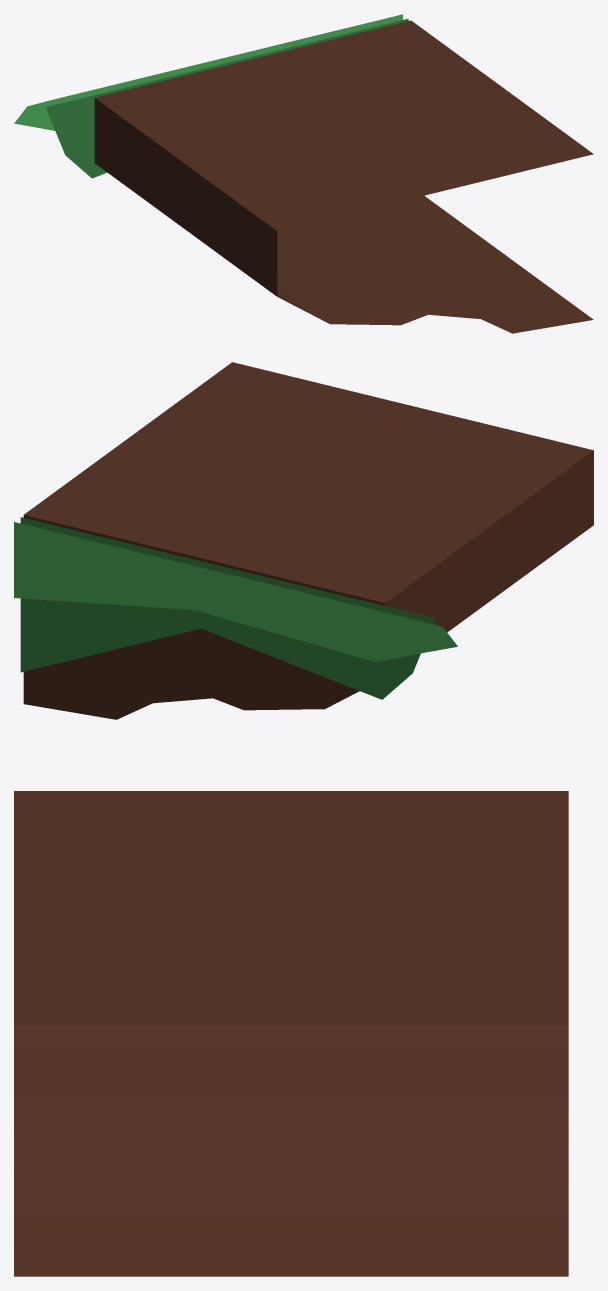
File: Tile_Earth_Half_Right_001.fbx
3 views of the same model, one above another, from view 1: azimuth 30°, elevation 25°; view 2: azimuth 150°, elevation 25°; view 3: azimuth 270°, elevation 25° (orthographic). The views are drawn at different scales.
Parts seen in each view (by area): view 1: Environment_Earth_Half; view 2: Environment_Earth_Half; view 3: Environment_Earth_Half.
Part boxes in pixels (left/top/right/bottom): Environment_Earth_Half: left=14, top=14, right=593, bottom=333; Environment_Earth_Half: left=14, top=362, right=593, bottom=719; Environment_Earth_Half: left=14, top=791, right=568, bottom=1276.
Bounding box in the file's own units: 123 × 50 × 105.
